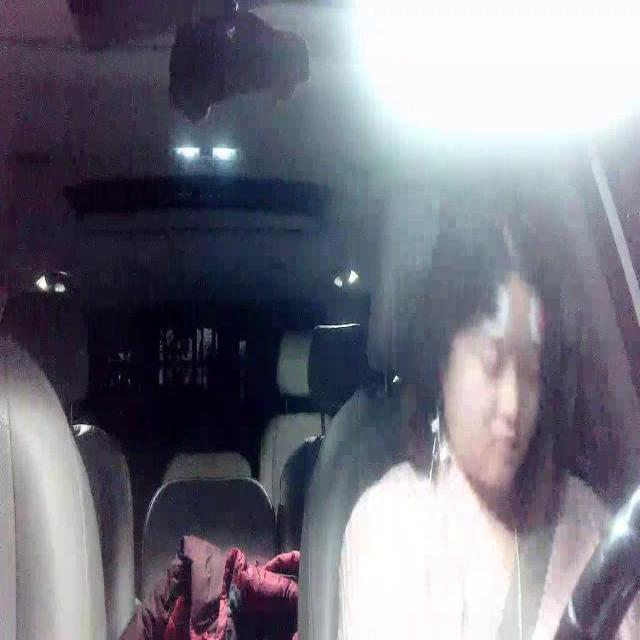Inattentive: (416, 191, 561, 494)
